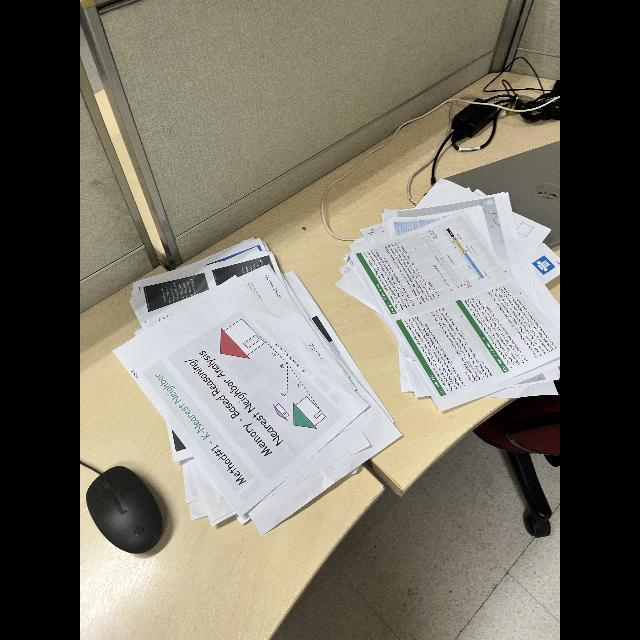reuseable_paper: (117, 238, 409, 522), (336, 174, 560, 420)
